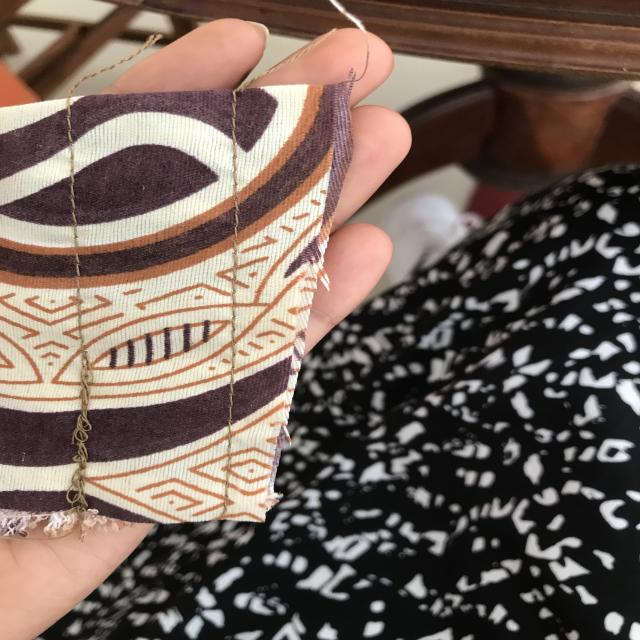good: (55, 171, 103, 296), (214, 285, 260, 377), (221, 148, 253, 236)
